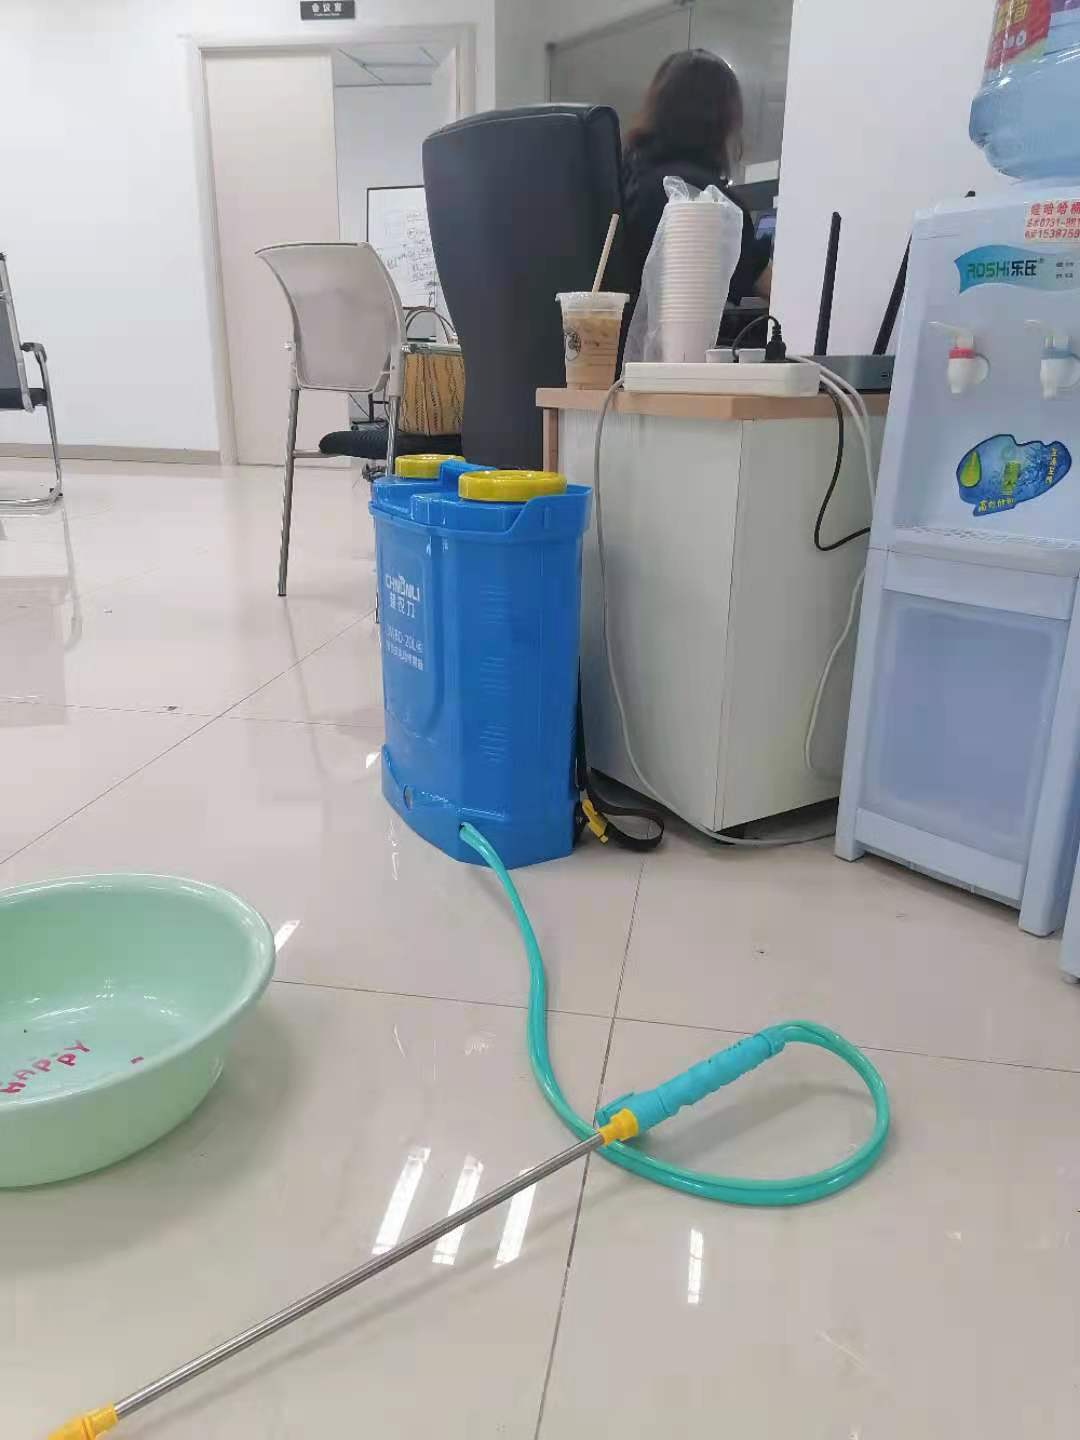berrl: (352, 450, 604, 878)
